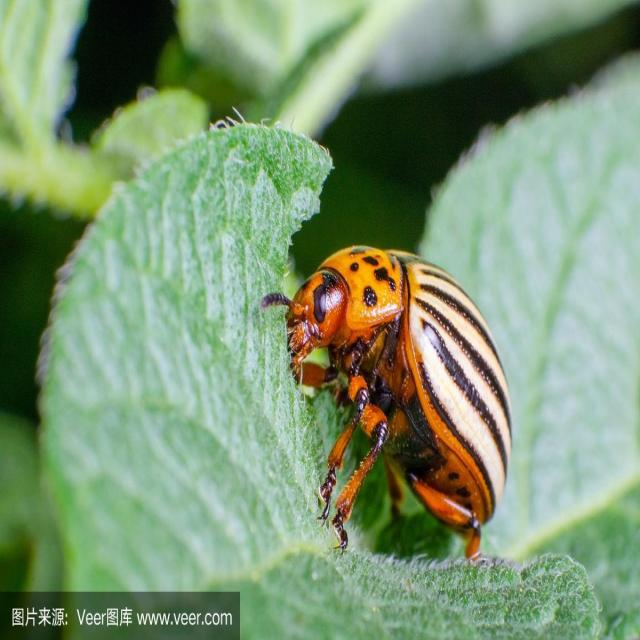ShuCaiHuaBanChong-Grown-: (286, 217, 548, 564)
